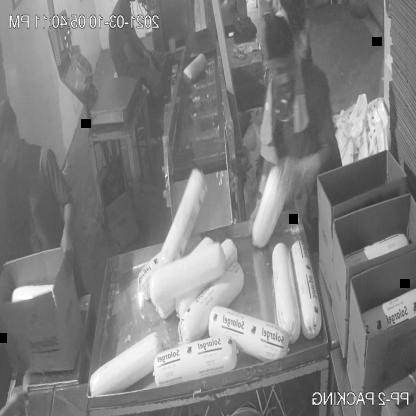glove: (276, 146, 324, 195)
no_glove: (56, 188, 78, 279), (116, 32, 156, 76)
